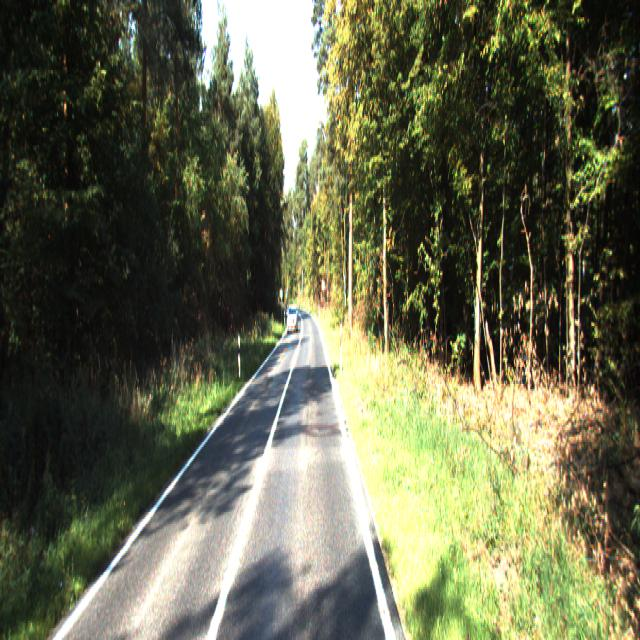Car: (286, 304, 298, 334)
